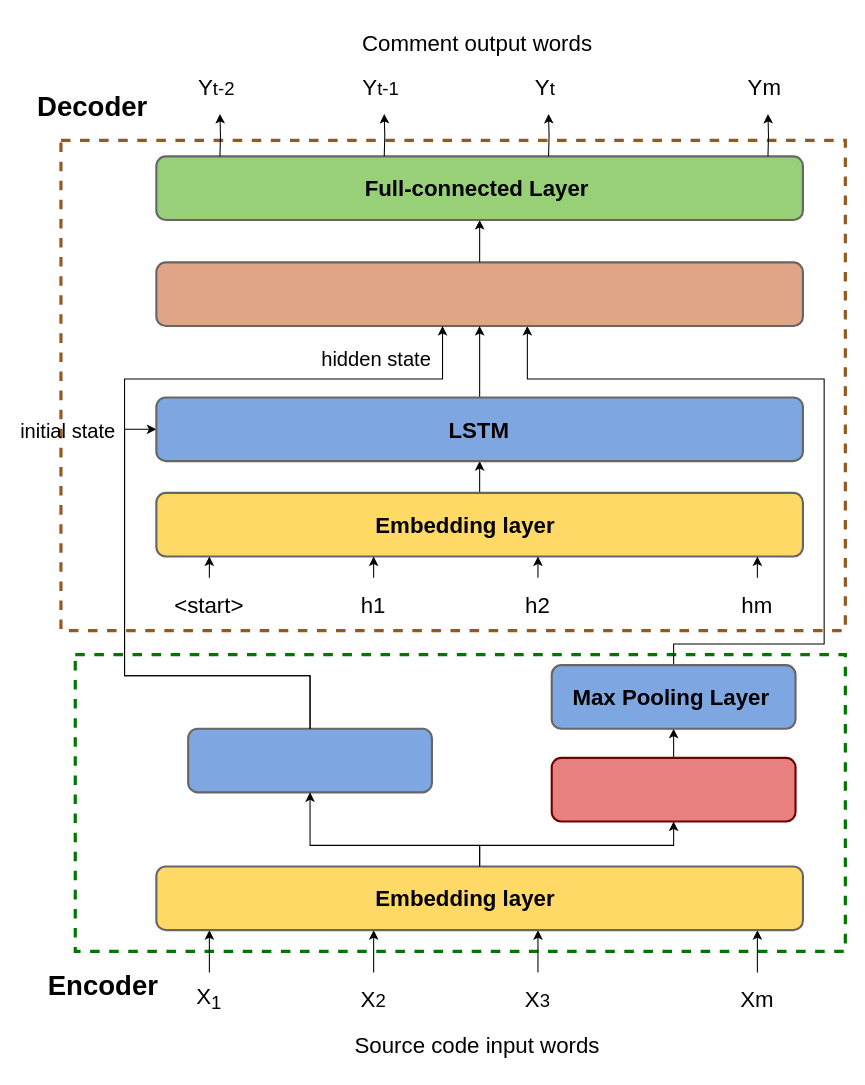
The diagram is 865 pixels wide and 1085 high, and some of its shapes have lost their labels. Here are the shapes that lost their labels. From the top down, the box of each, then its label:
(155, 261, 803, 326): Attention Layer
(187, 727, 432, 793): Bi-LSTM
(550, 756, 796, 822): CNN
